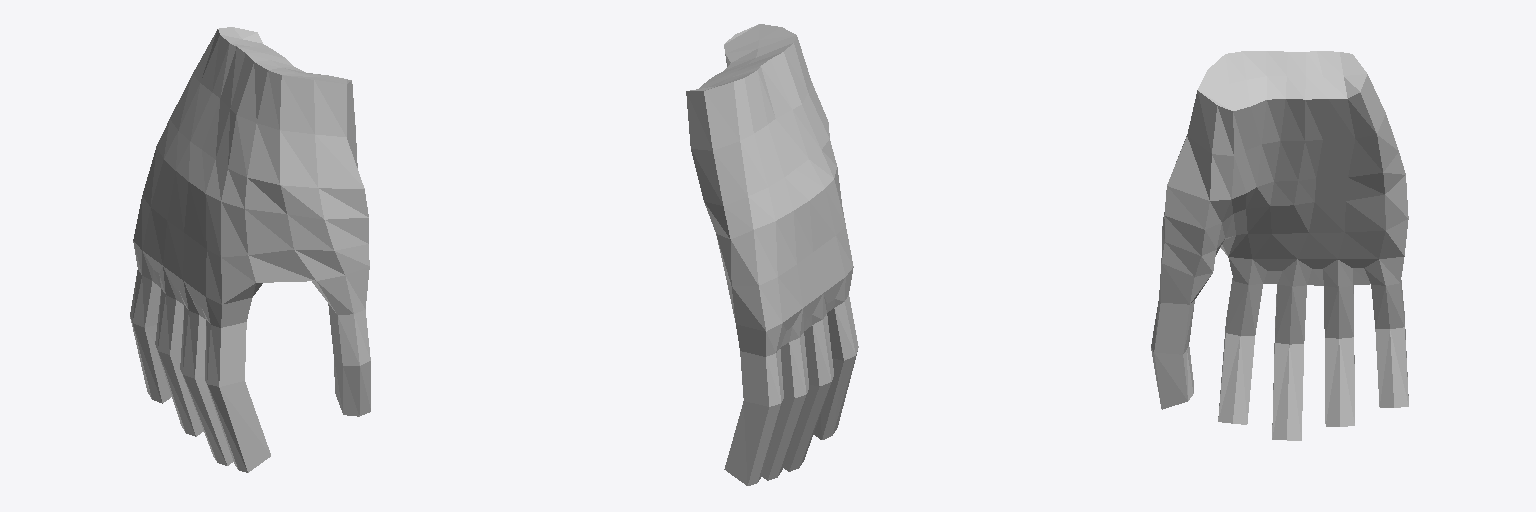
File: mano suave.obj
3 renders of one model, left to right at view 1: azimuth 30°, elevation 25°; view 2: azimuth 150°, elevation 25°; view 3: azimuth 270°, elevation 25°, orthographic.
Parts seen in each view (by area): view 1: polySurface2 pCube8; view 2: polySurface2 pCube8; view 3: polySurface2 pCube8.
Boxes of the visible parts, x1=… form: polySurface2 pCube8: x1=130, y1=27, x2=370, y2=472; polySurface2 pCube8: x1=686, y1=24, x2=858, y2=485; polySurface2 pCube8: x1=1151, y1=51, x2=1408, y2=440.
Size of the model in its own units: 6.59 by 18.52 by 10.76.